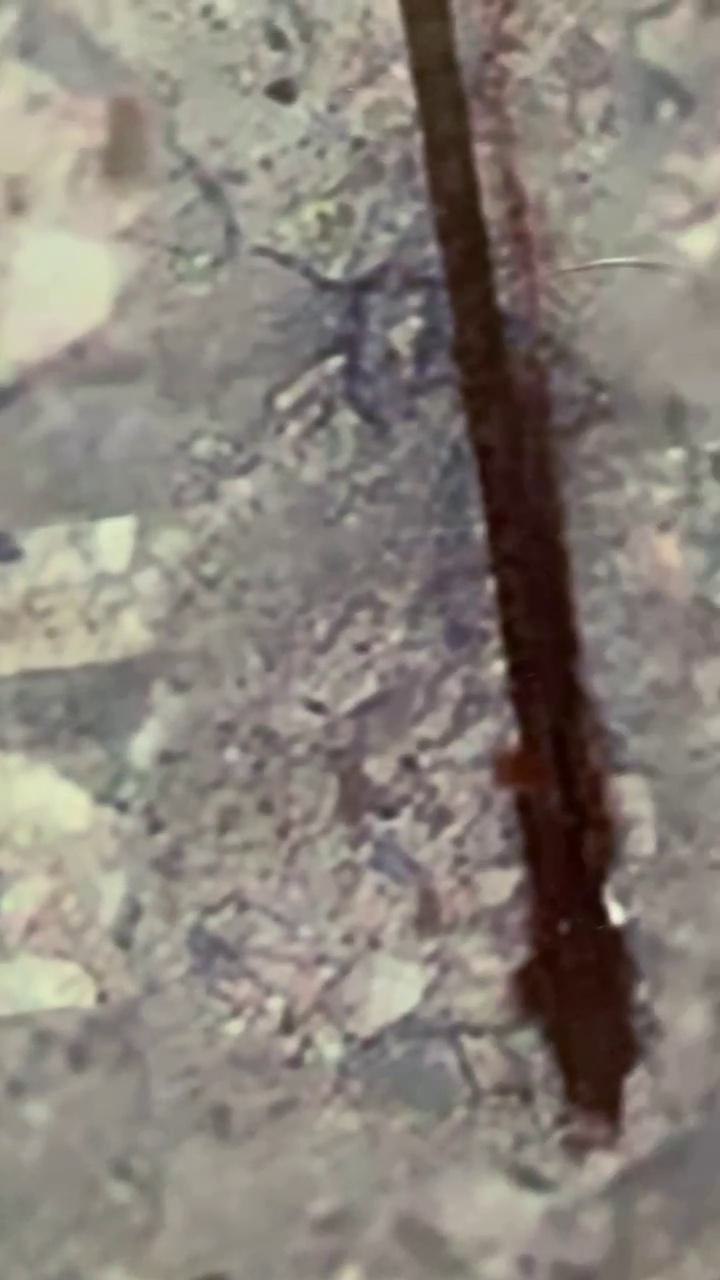Exposed reinforcement: (393, 1, 643, 1132)
